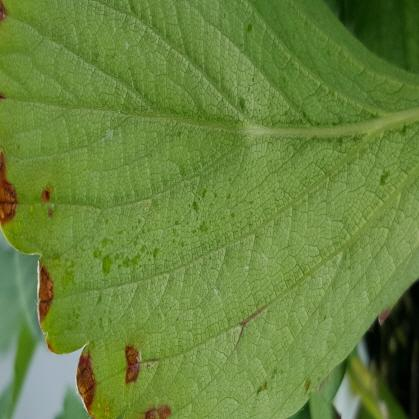Angular Leafspot: (44, 7, 417, 409)
